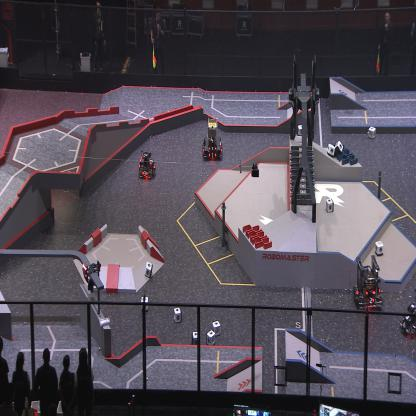car: (351, 255, 383, 309), (200, 117, 224, 161), (399, 300, 416, 338), (137, 148, 157, 180)
